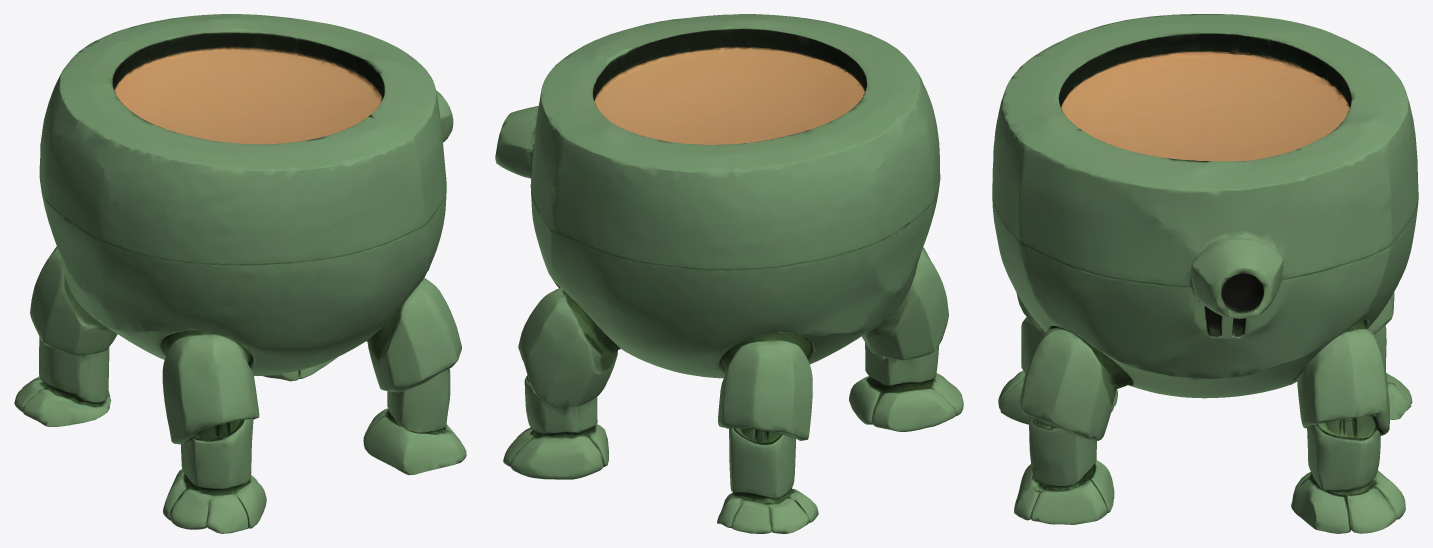
3 views of the same model, side by side, from view 1: azimuth 30°, elevation 25°; view 2: azimuth 150°, elevation 25°; view 3: azimuth 270°, elevation 25° (orthographic). The views are drawn at different scales.
Visible parts, largest first — view 1: tripo_node_9d5f38fe-d4e4-4e25-83d2-24cee48106e3; view 2: tripo_node_9d5f38fe-d4e4-4e25-83d2-24cee48106e3; view 3: tripo_node_9d5f38fe-d4e4-4e25-83d2-24cee48106e3.
Boxes of the visible parts, bbox=[...] form: tripo_node_9d5f38fe-d4e4-4e25-83d2-24cee48106e3: bbox=[14, 14, 466, 533]; tripo_node_9d5f38fe-d4e4-4e25-83d2-24cee48106e3: bbox=[495, 14, 963, 533]; tripo_node_9d5f38fe-d4e4-4e25-83d2-24cee48106e3: bbox=[992, 14, 1418, 533].
Size of the model in its own units: 1 by 0.8673 by 0.9056.
1 material, 1 textured.
